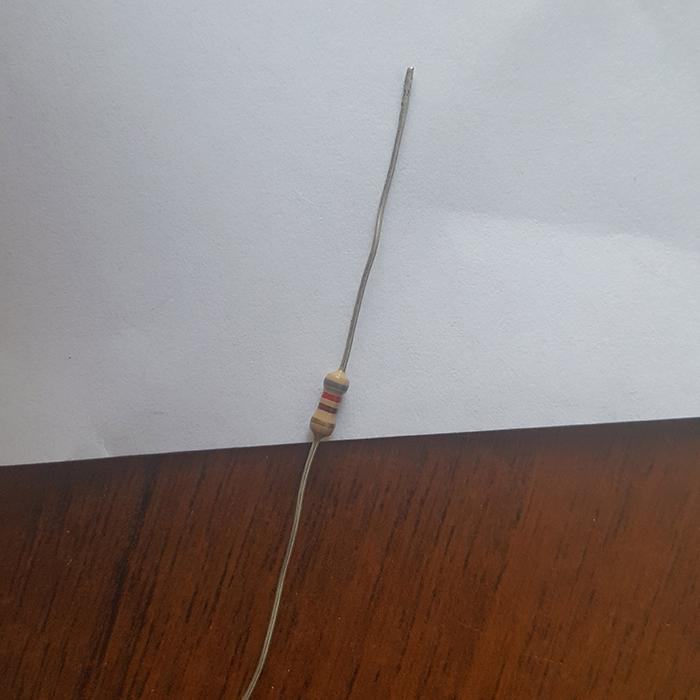resistor: (310, 367, 349, 438)
